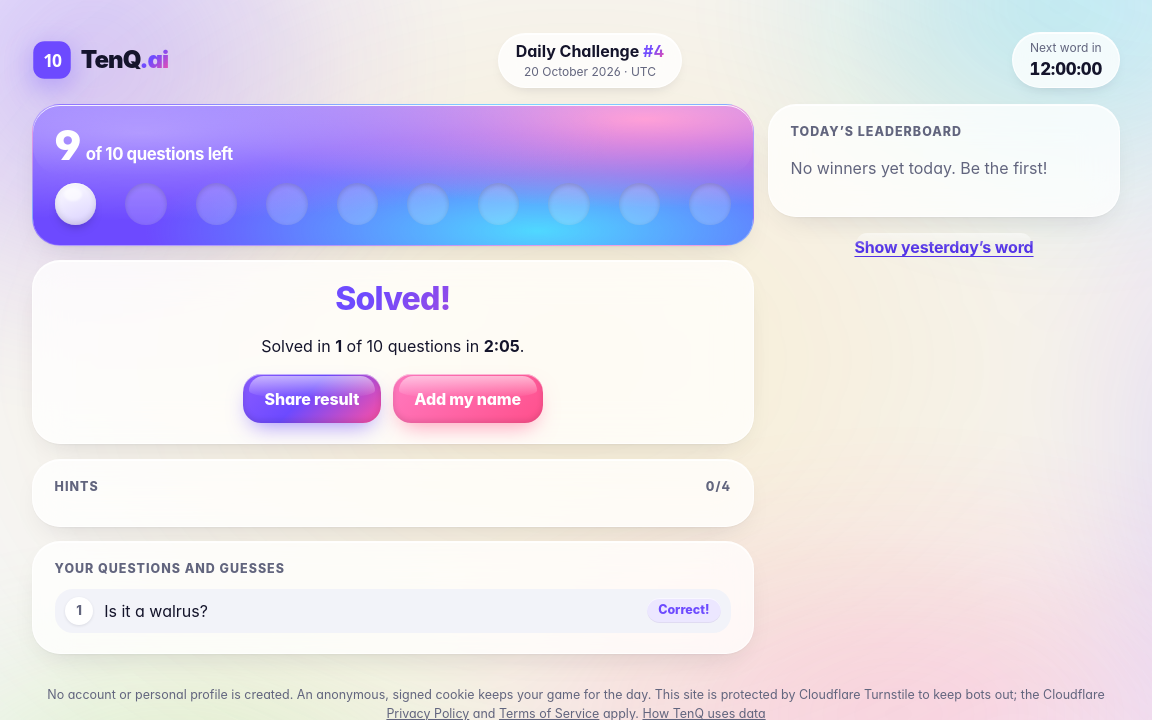
win celebration and leaderboard name › does not celebrate a game that was already won before this visit
The width and height of the screenshot is (1152, 720).
Expected: the heading "Solved!" is shown, [55,281,731,318]
Click the button "Add my name". click: (468, 399)
box: [393,374,543,423]
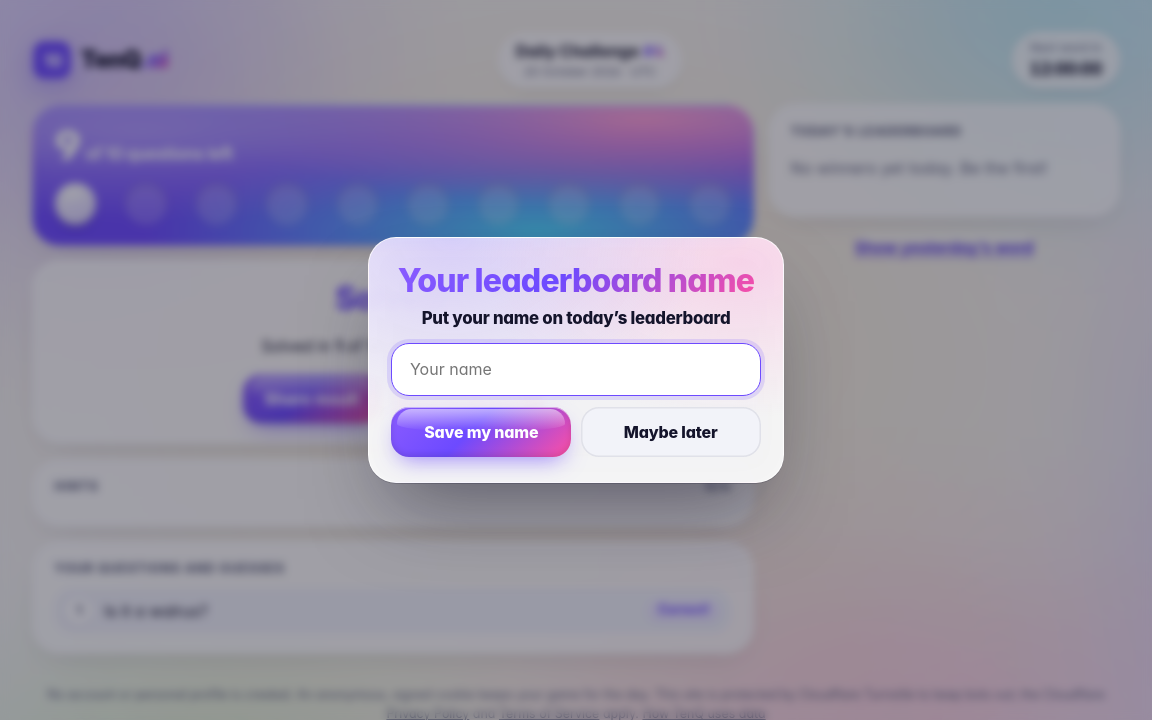
Now the dialog "leaderboard name" is shown, box [368,237,784,483]
